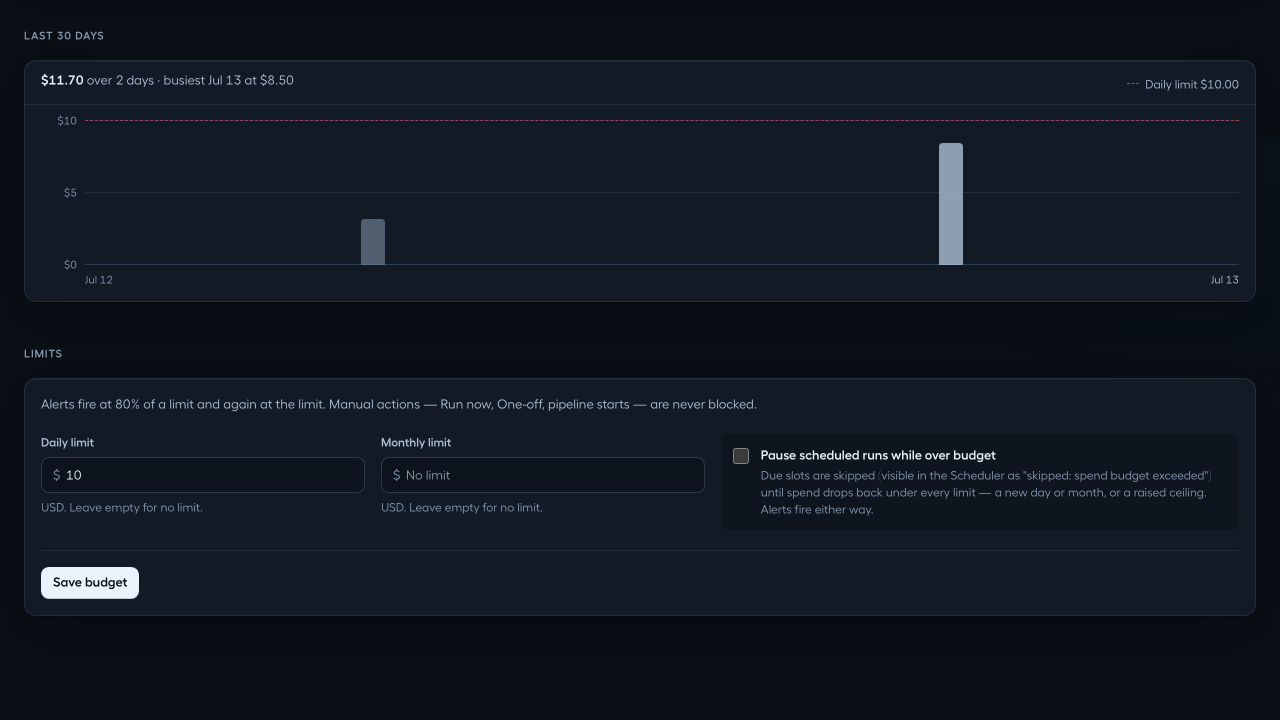
Test case: Budget › seeds the form from config and saves an updated budget
(page scrolled)
Replace the text in the field labelled "Daily limit" with "25" at (203, 475), box [41, 457, 365, 493]
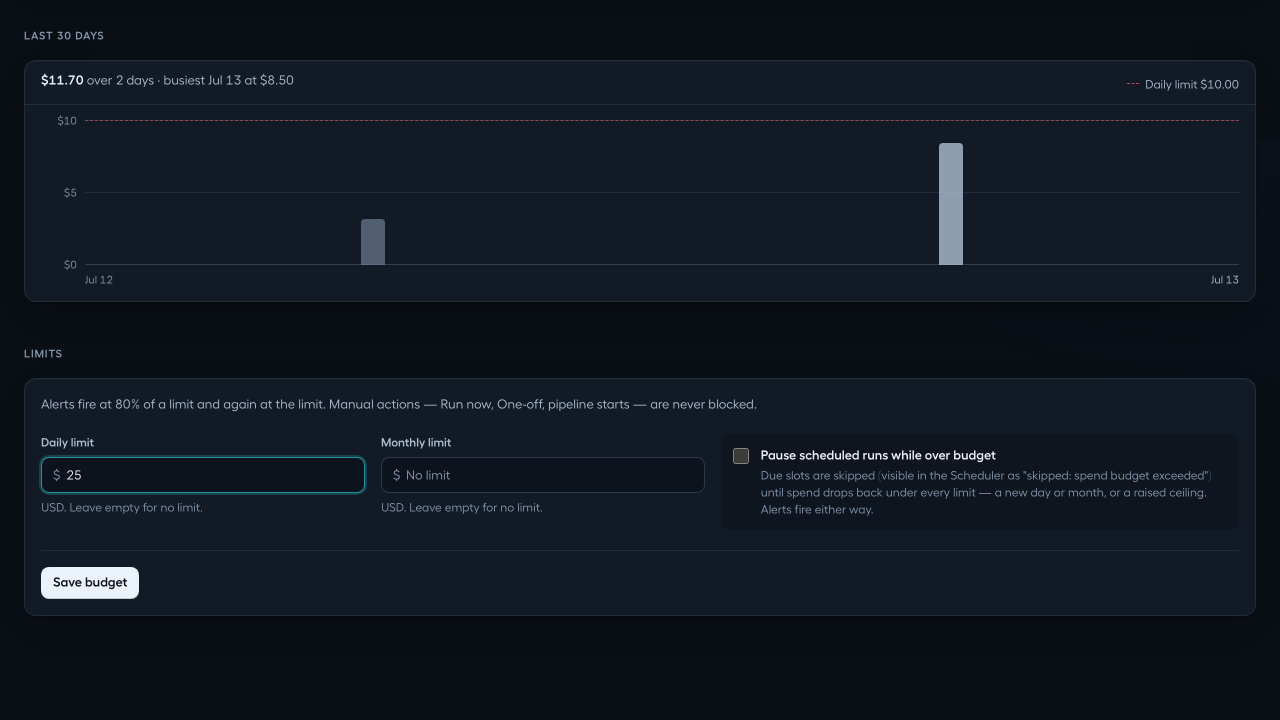
Type "200" into the field labelled "Monthly limit" at (543, 475), box [381, 457, 705, 493]
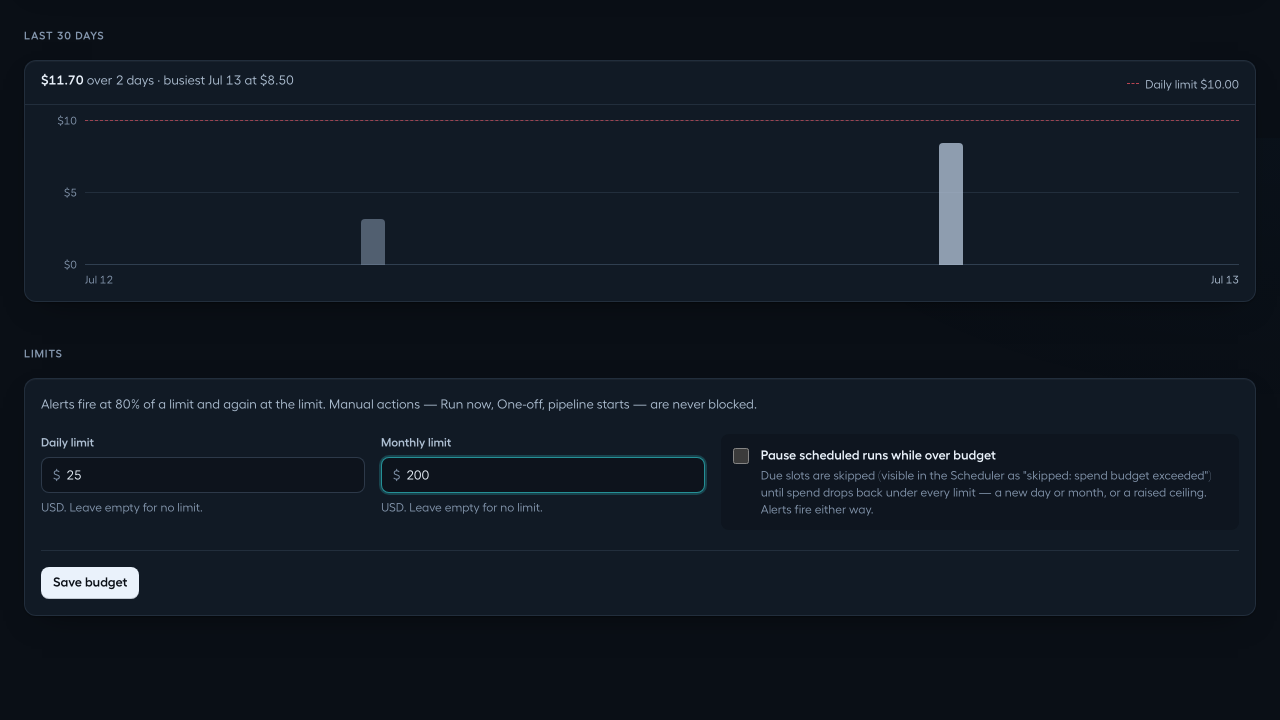
Click the checkbox labelled "Pause scheduled runs" at (741, 456), box [733, 448, 749, 464]
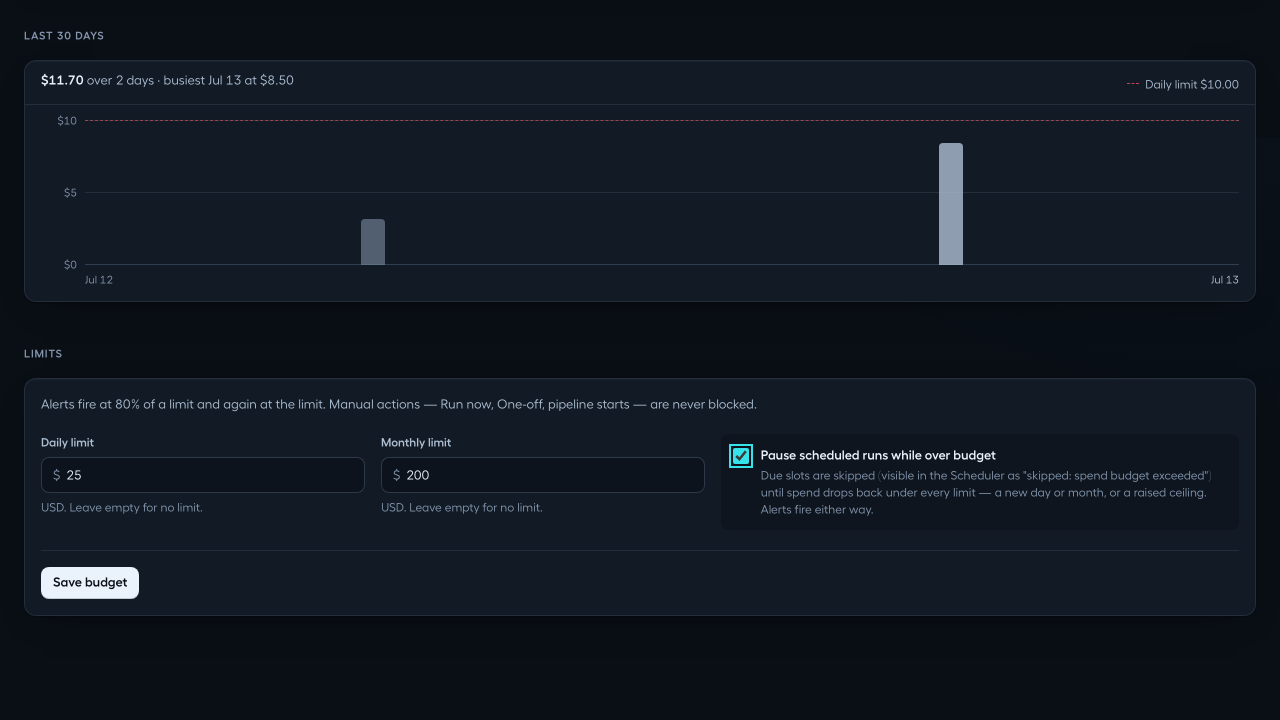
Click the button "Save budget" at (90, 582), box [41, 566, 140, 598]
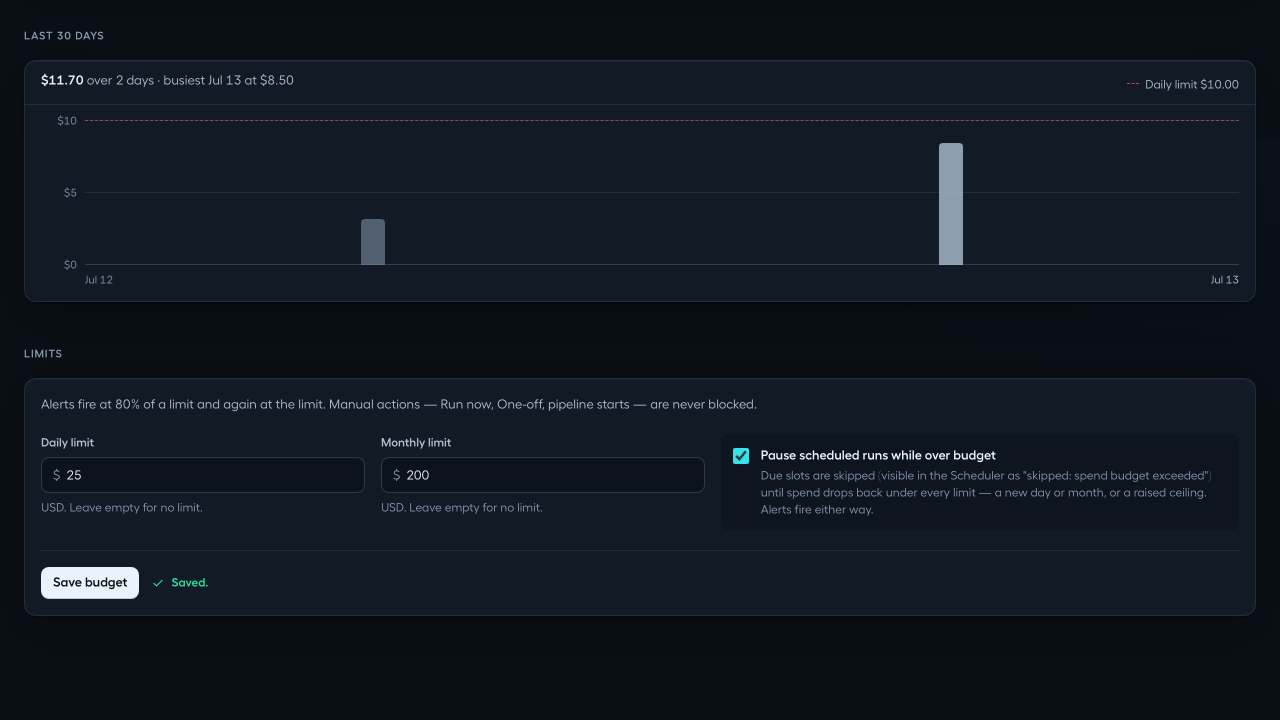
Expected: the text "Saved." is shown, [152, 574, 208, 591]
